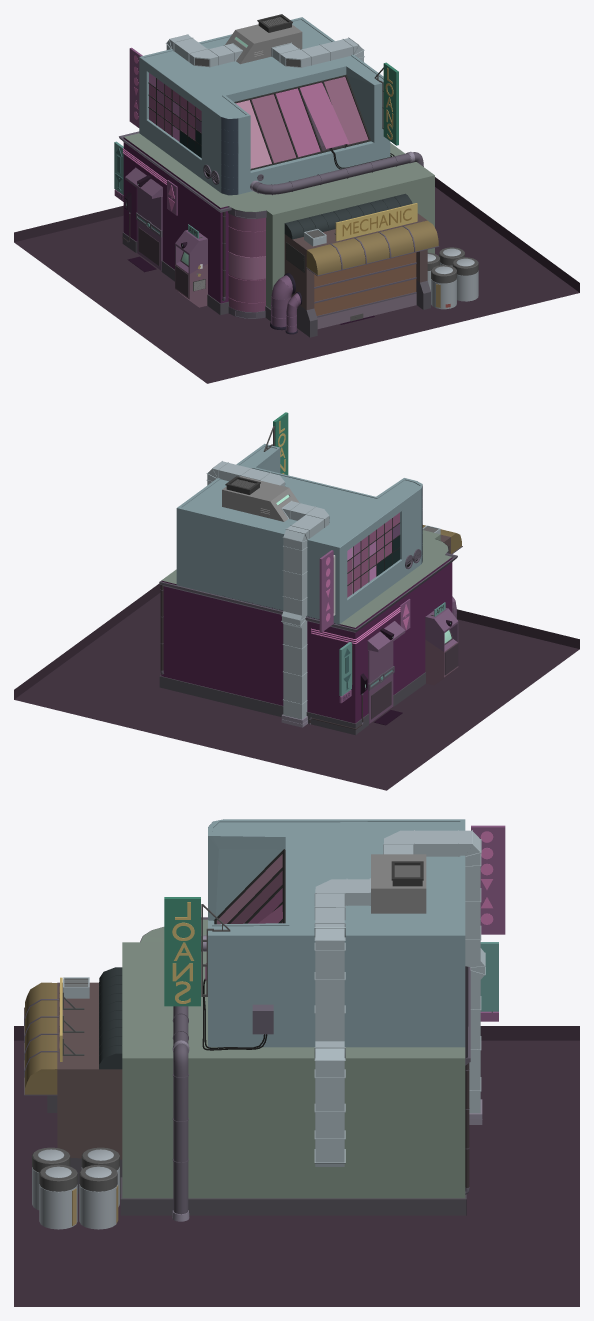
Rendered from build_turt.fbx.
3 renders of one model, top to bottom at view 1: azimuth 30°, elevation 25°; view 2: azimuth 150°, elevation 25°; view 3: azimuth 270°, elevation 25°, orthographic. The views are drawn at different scales.
Parts seen in each view (by area): view 1: Plane, Cube.001, Cube, Cube.021, Cube.012, Cube.008, Cube.050, Cube.057, Cube.004, Cube.005, Cylinder.002, Cube.020 (+20 smaller); view 2: Plane, Cube.021, Cube.001, Cube.004, Cube, Cube.020, Cube.007, Cube.026, Cube.038, Cube.036, Cube.019, Cube.018 (+4 smaller); view 3: Plane, Cube, Cube.001, Cube.004, Cube.005, Cylinder.003, Cube.008, Cube.024, NurbsPath.002, Cube.007, Cube.006, Cylinder.009 (+10 smaller).
Part boxes in pixels (<box>): Plane: <box>14,177,579,383</box>; Cube.001: <box>139,17,390,194</box>; Cube: <box>124,133,434,321</box>; Cube.021: <box>122,137,228,315</box>; Cube.012: <box>314,252,416,328</box>; Cube.008: <box>306,220,438,275</box>; Cube.050: <box>276,82,348,157</box>; Cube.057: <box>251,76,368,162</box>; Cube.004: <box>166,34,364,67</box>; Cube.005: <box>284,213,430,337</box>; Cylinder.002: <box>228,214,265,312</box>; Cube.020: <box>175,230,207,307</box>; Plane: <box>14,584,579,790</box>; Cube.021: <box>159,557,452,735</box>; Cube.001: <box>176,443,422,624</box>; Cube.004: <box>206,461,329,719</box>; Cube: <box>160,530,451,676</box>; Cube.020: <box>425,608,458,685</box>; Cube.007: <box>222,476,299,521</box>; Cube.026: <box>368,642,393,723</box>; Cube.038: <box>347,512,399,597</box>; Cube.036: <box>159,553,457,632</box>; Cube.019: <box>319,550,333,632</box>; Cube.018: <box>339,642,351,703</box>; Plane: <box>14,1026,579,1306</box>; Cube: <box>120,919,466,1215</box>; Cube.001: <box>208,819,465,1047</box>; Cube.004: <box>314,830,485,1166</box>; Cube.005: <box>47,982,122,1193</box>; Cylinder.003: <box>32,1149,119,1229</box>; Cube.008: <box>24,982,57,1094</box>; Cube.024: <box>164,897,200,1006</box>; NurbsPath.002: <box>172,936,201,1214</box>; Cube.007: <box>371,854,426,913</box>; Cube.006: <box>99,967,122,1069</box>; Cylinder.009: <box>32,1147,119,1191</box>.
Size of what is drawn, in the model's own units: 6033 by 3330 by 5419.
